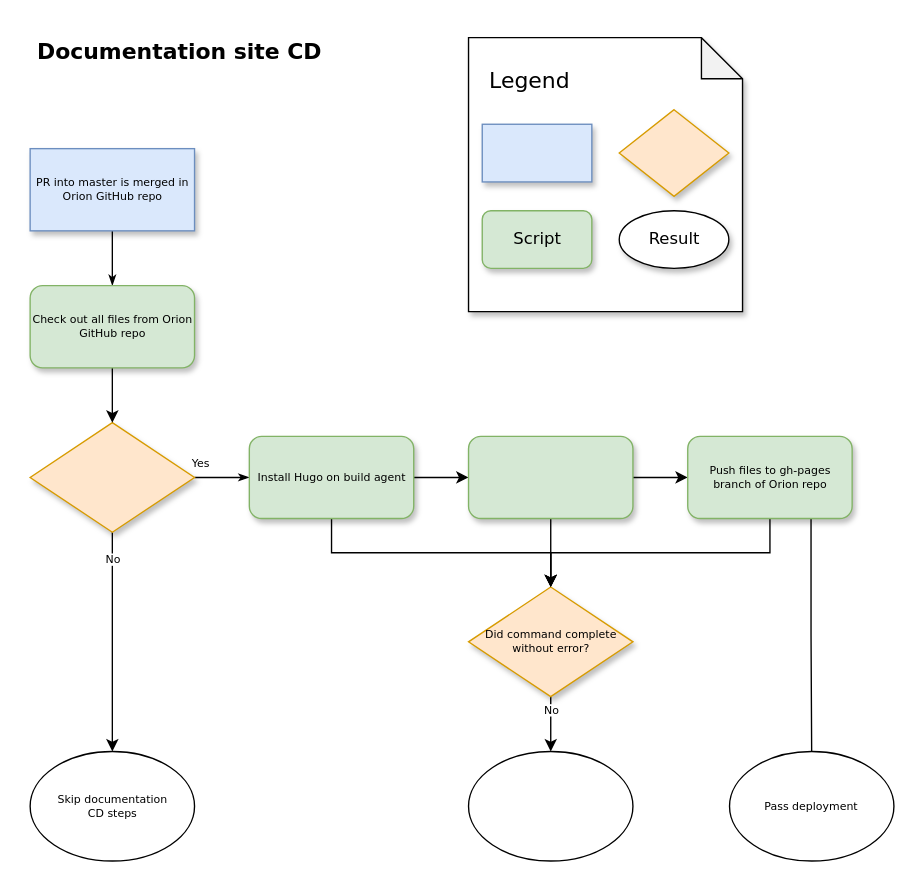
This 918x885 diagram has some shape labels left out. Here are the shapes that lost their labels. From the top down, the centre of each, then its label:
At point 537,154: "User action".
At point 674,154: "Pipeline check".
At point 113,479: "Are files in /docs part of latest commit?".
At point 551,478: "Run Hugo to regenerate new static files".
At point 550,805: "Fail deployment".
